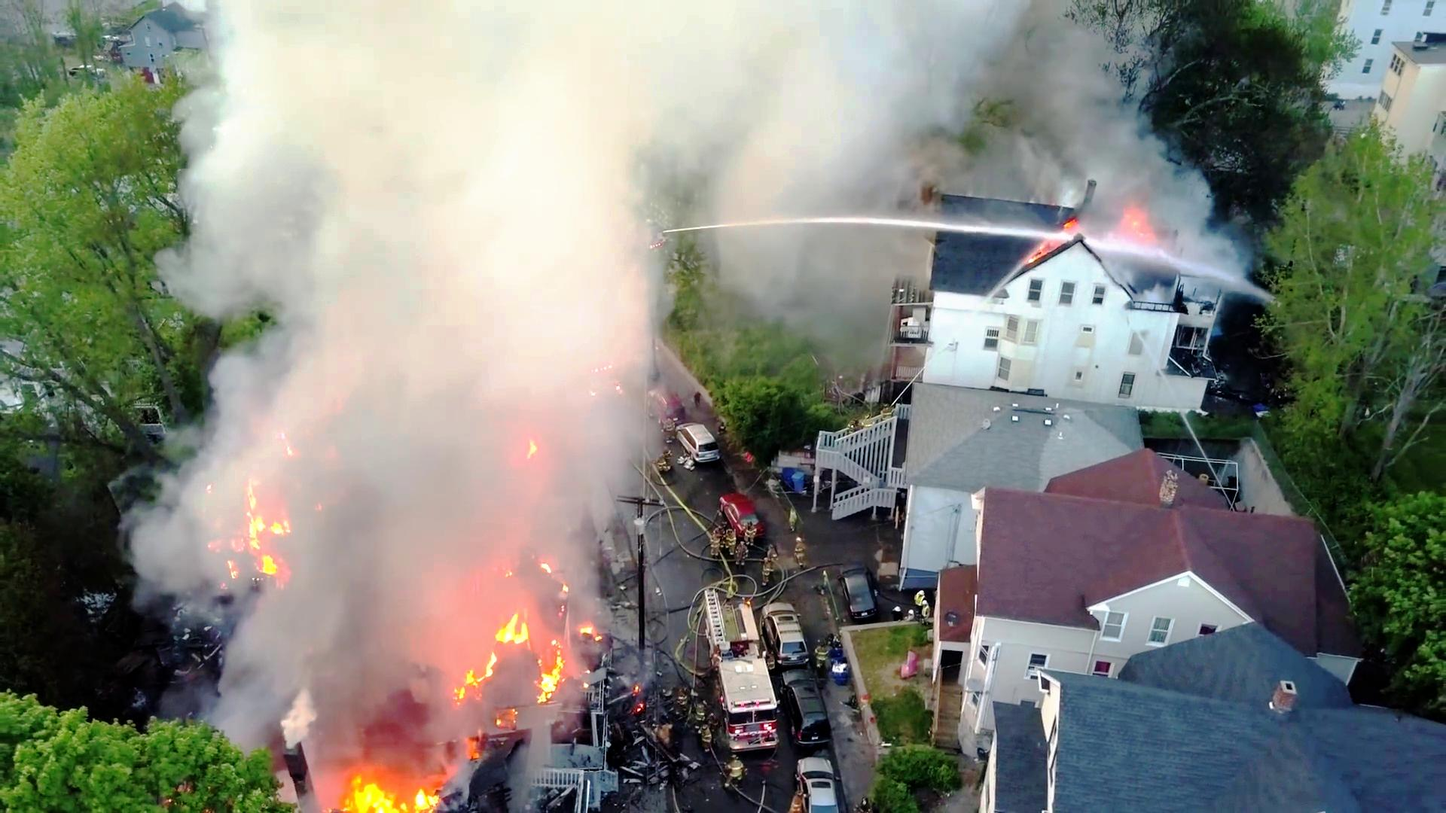fire: (454, 620, 561, 714), (231, 478, 298, 586), (344, 763, 452, 813)
smoke: (298, 2, 603, 366)
